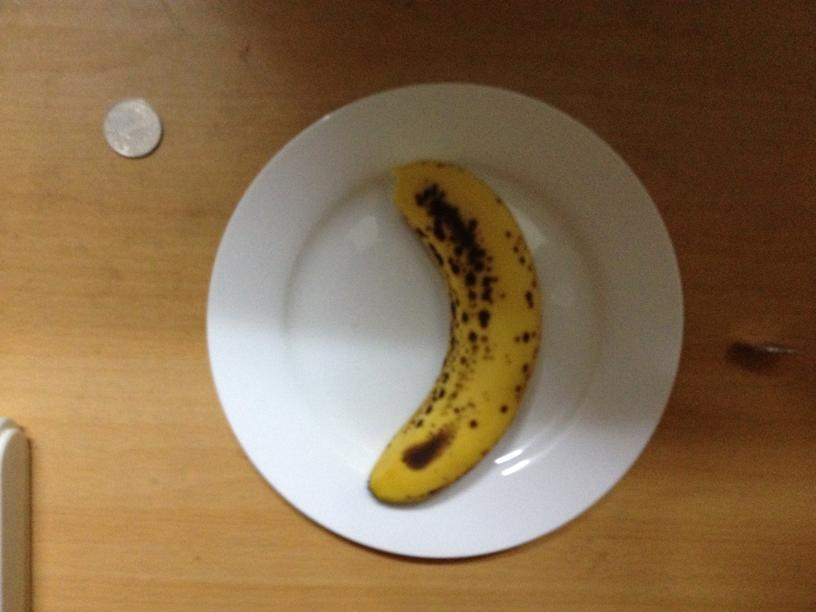banana: (367, 157, 544, 508)
coin: (102, 100, 161, 156)
